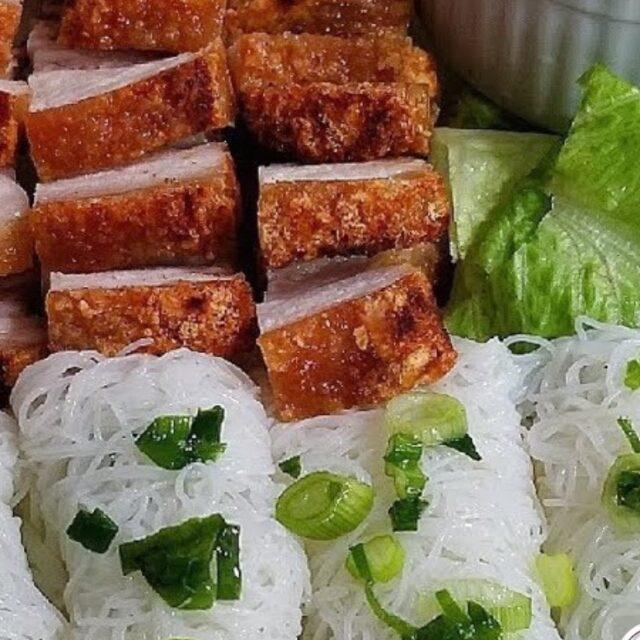banh hoi: (224, 314, 600, 640), (0, 338, 347, 640), (499, 305, 640, 577)
banh hoi heo quay: (0, 0, 640, 640)
thit heo quay: (235, 231, 470, 426), (19, 0, 252, 186), (209, 0, 449, 170), (231, 141, 457, 317), (18, 130, 256, 282), (36, 250, 259, 387), (40, 0, 237, 64), (0, 262, 77, 421), (0, 131, 58, 310)
